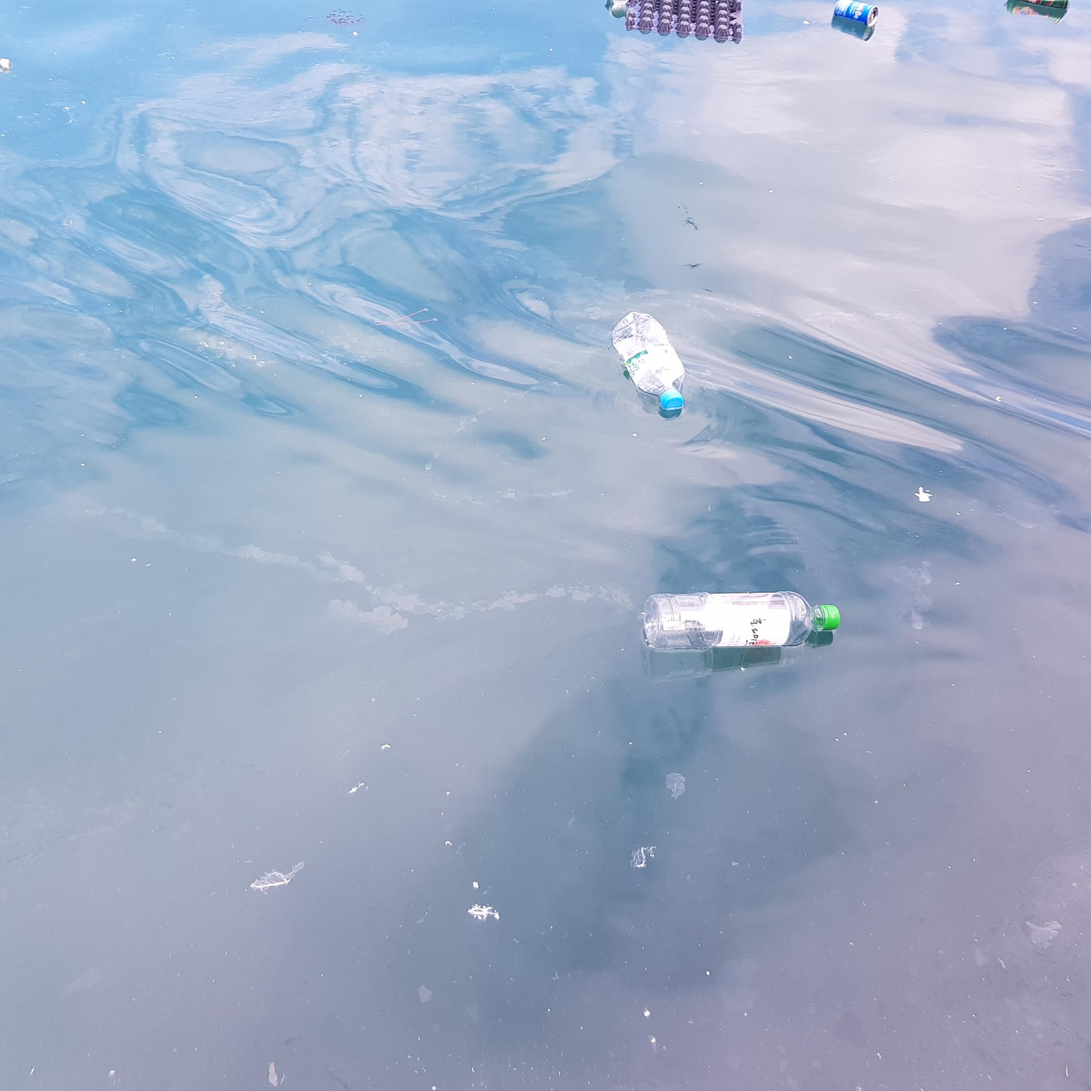sampah_terapung: (644, 591, 841, 650), (612, 312, 686, 410), (834, 1, 880, 27), (1014, 1, 1071, 9)
